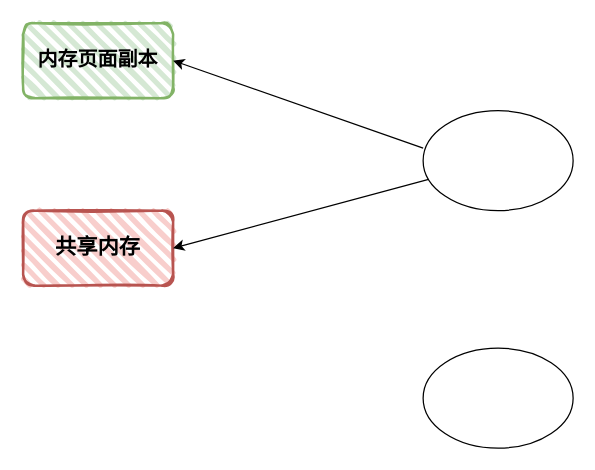
The diagram is 595 pixels wide and 470 high, and some of its shapes have lost their labels. Each missing label, with the box of its shape:
子进程: (422, 347, 573, 448)
父进程: (422, 109, 573, 211)
